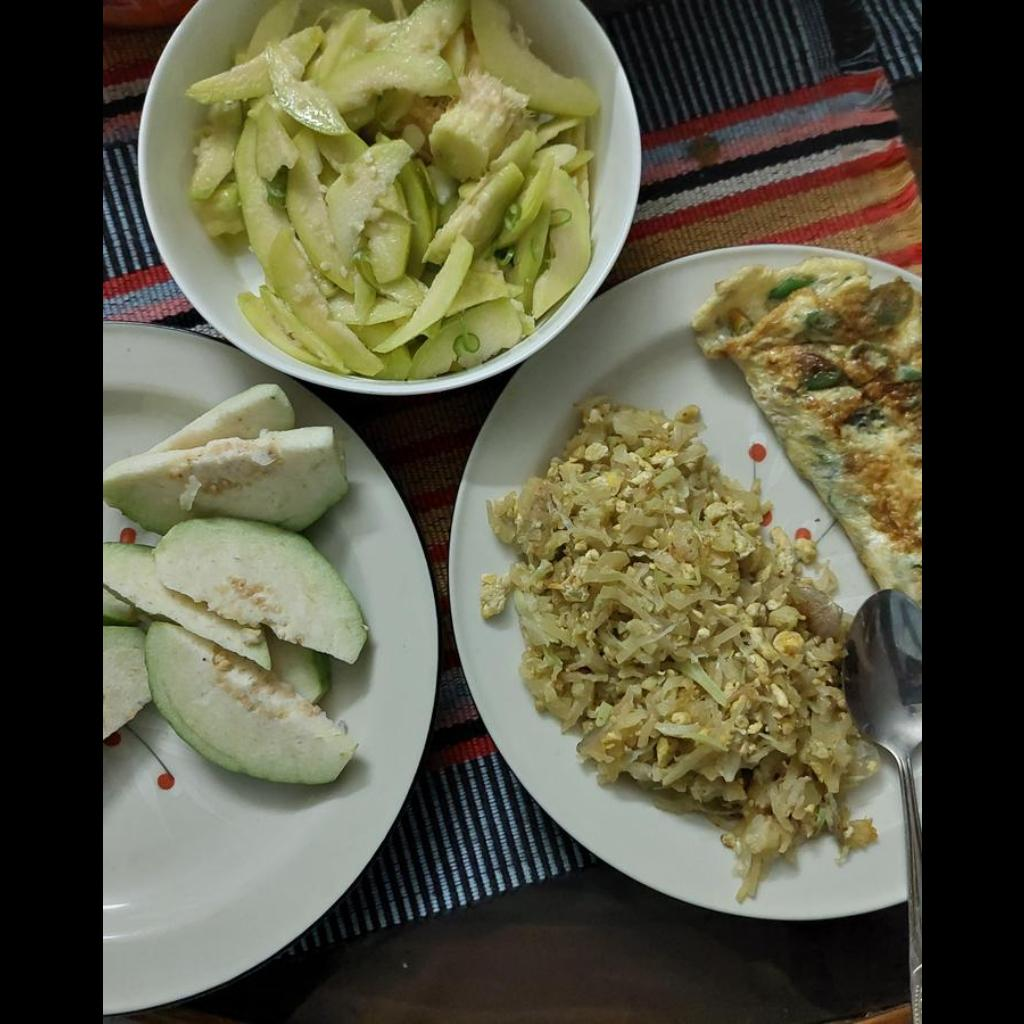egg-poached: (694, 261, 920, 599)
guava: (180, 2, 599, 380), (104, 378, 356, 794)
vaji: (471, 397, 890, 914)
